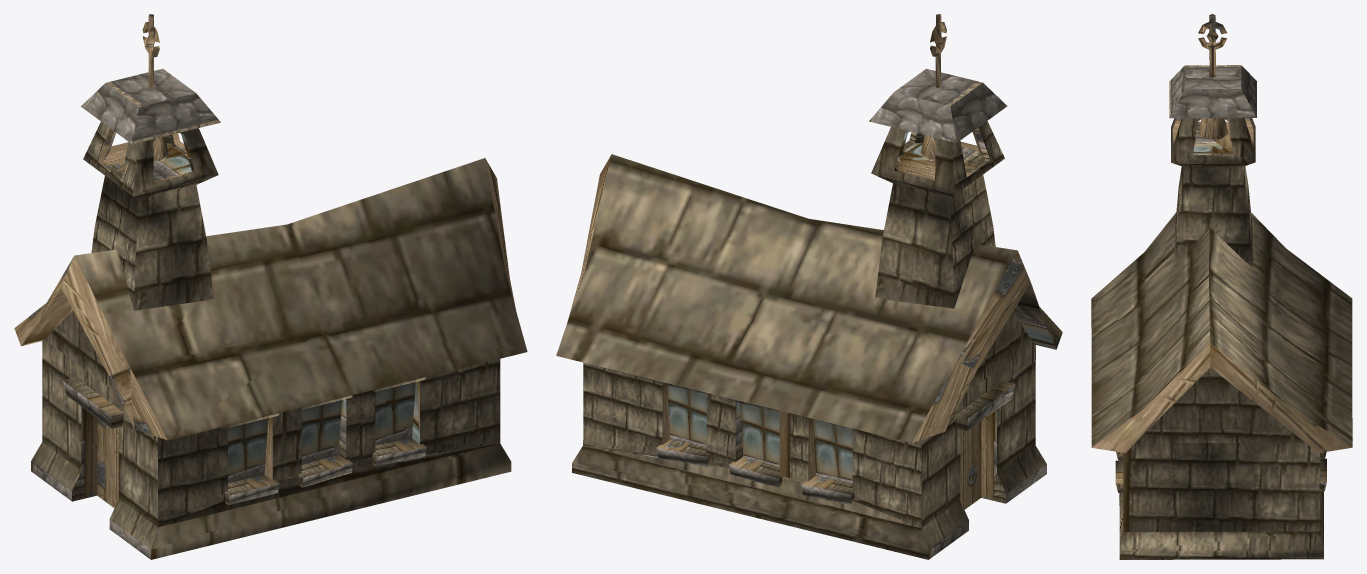
The model's file is church.FBX.
3 renders of one model, left to right at view 1: azimuth 30°, elevation 25°; view 2: azimuth 150°, elevation 25°; view 3: azimuth 270°, elevation 25°, orthographic. The views are drawn at different scales.
Visible parts, largest first — view 1: world_azeroth_westfall_buildings_church_westfallchurch_m2_Ge; view 2: world_azeroth_westfall_buildings_church_westfallchurch_m2_Ge; view 3: world_azeroth_westfall_buildings_church_westfallchurch_m2_Ge.
Boxes of the visible parts, box(x1,y1,x2,y2) form: world_azeroth_westfall_buildings_church_westfallchurch_m2_Ge: box(14, 14, 527, 559); world_azeroth_westfall_buildings_church_westfallchurch_m2_Ge: box(556, 14, 1062, 559); world_azeroth_westfall_buildings_church_westfallchurch_m2_Ge: box(1091, 14, 1352, 559).
Bounding box in the file's own units: 19.66 × 21.15 × 11.97.
